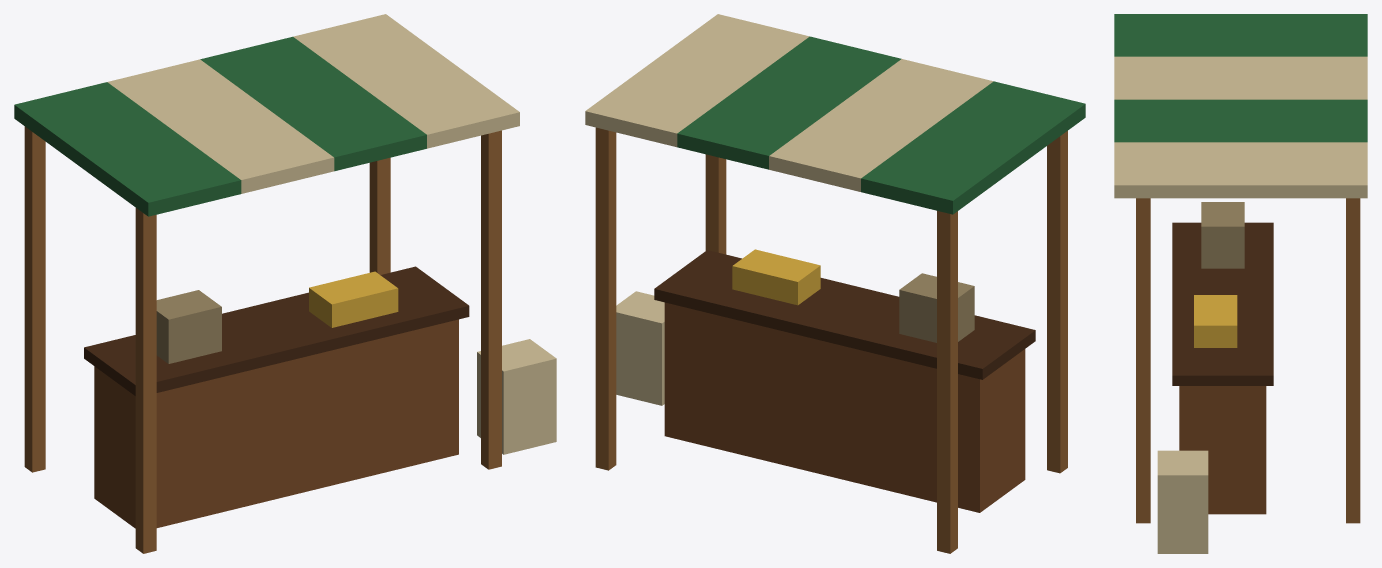
The model's file is camp_stall.glb.
The picture shows the model from 3 angles, left to right: view 1: azimuth 30°, elevation 25°; view 2: azimuth 150°, elevation 25°; view 3: azimuth 270°, elevation 25°; orthographic projection. The views are drawn at different scales.
Parts seen in each view (by area): view 1: camp_stall; view 2: camp_stall; view 3: camp_stall.
Part boxes in pixels (bbox=[...]): camp_stall: bbox=[14, 14, 556, 553]; camp_stall: bbox=[585, 14, 1085, 553]; camp_stall: bbox=[1114, 14, 1367, 553].
Bounding box in the file's own units: 3.25 × 2.6 × 1.75.
1 material, 1 textured.
